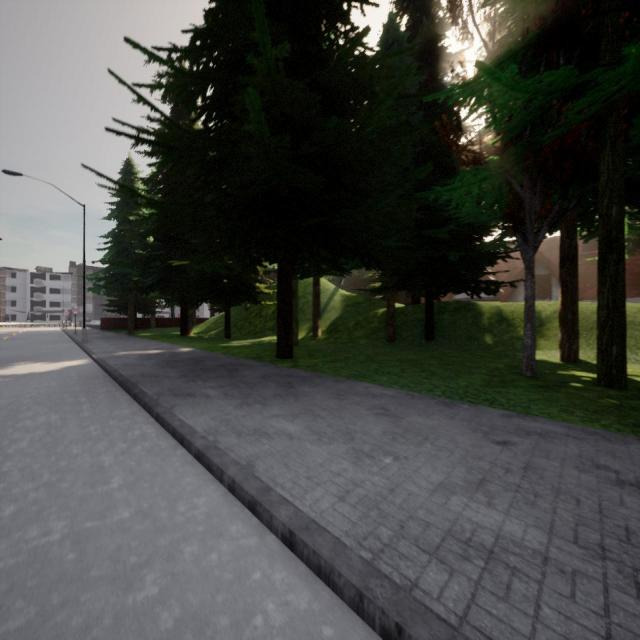Traffic_Signs: (71, 304, 80, 314)
